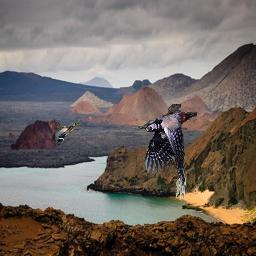Swallow: (55, 120, 79, 142)
Woodpecker: (137, 104, 198, 200)
